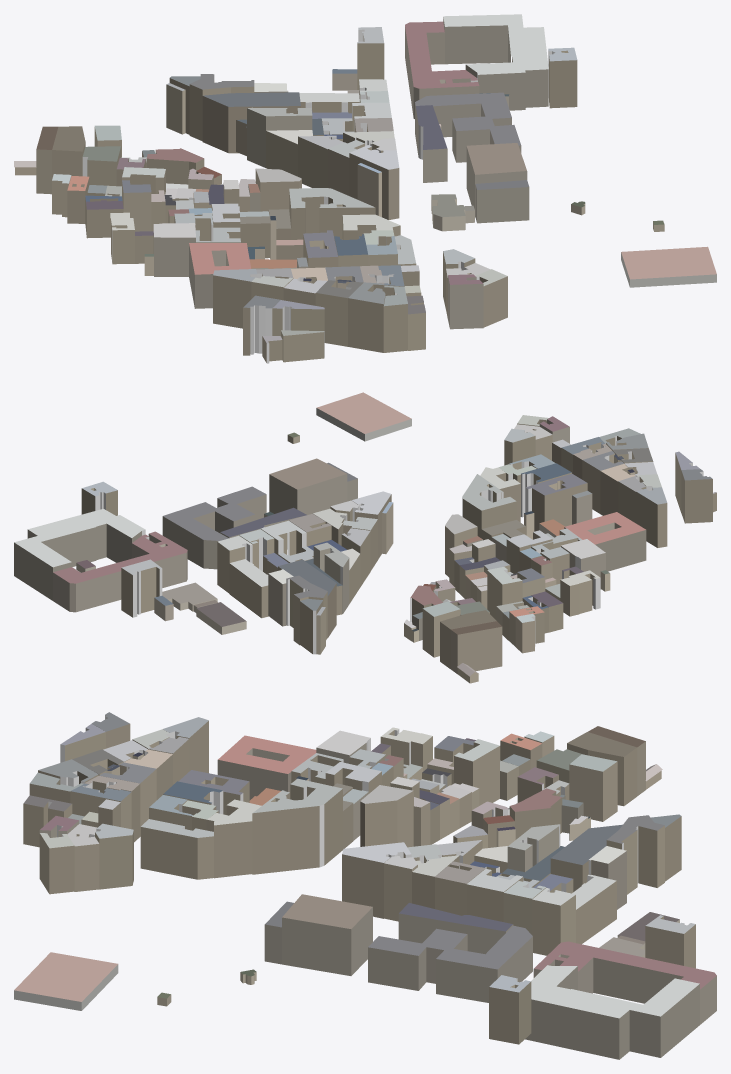
3 views of the same model, one above another, from view 1: azimuth 30°, elevation 25°; view 2: azimuth 150°, elevation 25°; view 3: azimuth 270°, elevation 25° (orthographic). The views are drawn at different scales.
Parts seen in each view (by area): view 1: tuile; view 2: tuile; view 3: tuile.
Boxes of the visible parts, x1,y1,x2,y2 form: tuile: [14, 14, 716, 363]; tuile: [14, 392, 716, 683]; tuile: [14, 712, 716, 1059].
Bounding box in the file's own units: 267 × 29.52 × 274.
